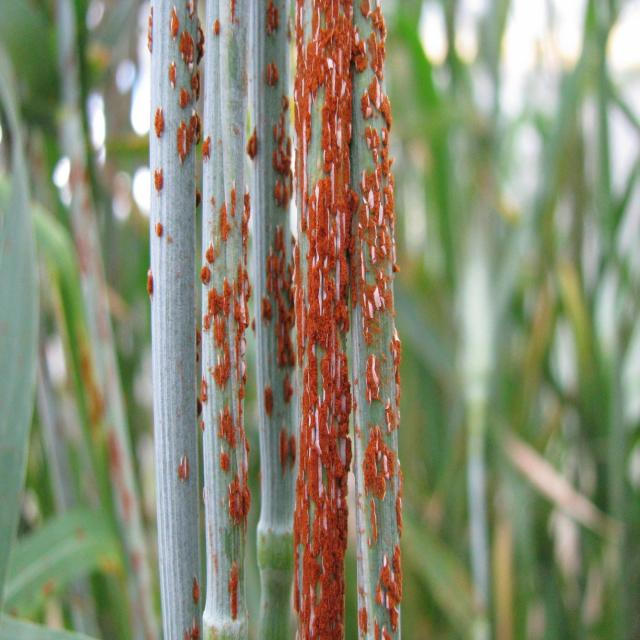wheat-stemrust: (293, 0, 403, 640), (201, 189, 253, 527), (263, 227, 298, 476), (170, 8, 205, 166), (273, 96, 295, 210), (265, 4, 279, 40), (265, 63, 279, 86)
